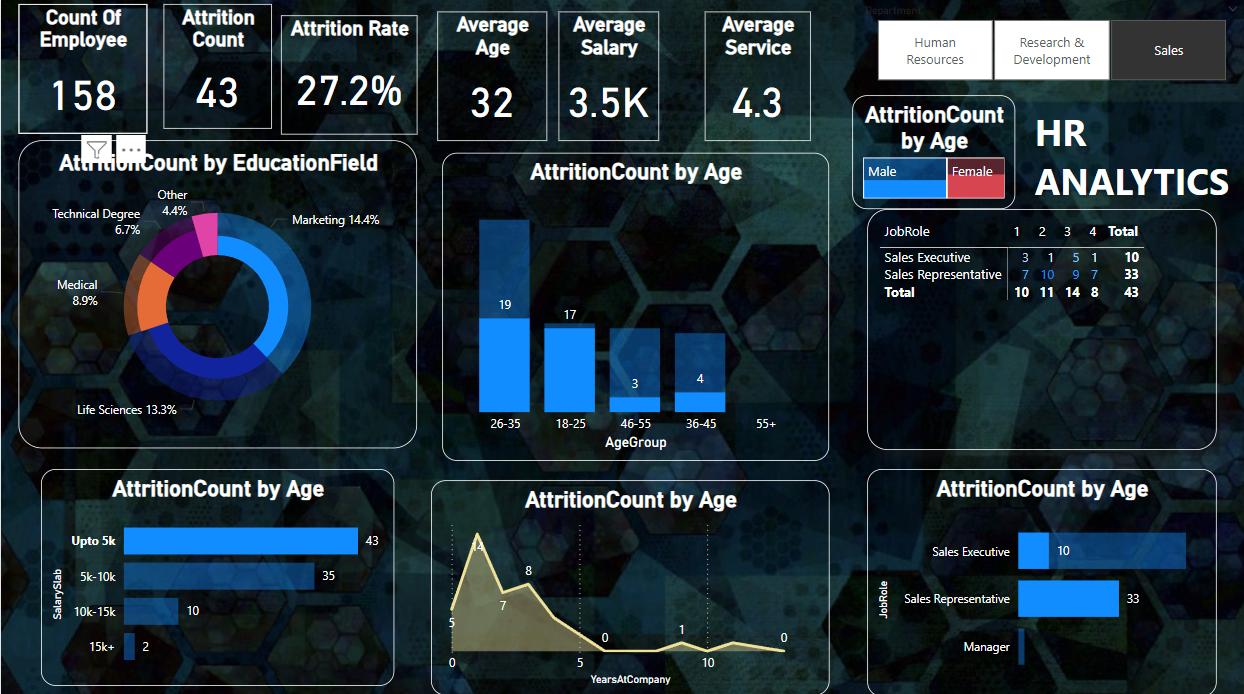

The page's visual inventory and layout, read from the dashboard file:
{"tool":"powerbi","page":{"name":"Page 1","canvas":[1280,720],"ordinal":0},"visuals":[{"type":"card","title":"Count Of Employee","fields":{"Values":["CountNonNull(HR_Analytics.EmpID)"]},"box":[17.8,5.5,131.7,133.1],"z":0},{"type":"card","title":"Attrition  Count","fields":{"Values":["Sum(HR_Analytics.AttritionCount)"]},"box":[166,5.5,111.1,127.6],"z":1000},{"type":"card","title":"Attrition Rate","fields":{"Values":["HR_Analytics.AttritionRate"]},"box":[286.8,16.5,140,122.1],"z":2000},{"type":"card","title":"Average Age","fields":{"Values":["Avg(HR_Analytics.Age)"]},"box":[447.3,12.3,112.5,133.1],"z":3000},{"type":"card","title":"Average Salary","fields":{"Values":["Avg(HR_Analytics.MonthlyIncome)"]},"box":[572.2,12.3,102.9,133.1],"z":4000},{"type":"card","title":"Average Service","fields":{"Values":["Avg(HR_Analytics.YearsAtCompany)"]},"box":[721.8,12.3,108.4,133.1],"z":5000},{"type":"donutChart","title":"AttritionCount by EducationField","fields":{"Category":["HR_Analytics.EducationField"],"Y":["Sum(HR_Analytics.AttritionCount)"]},"box":[17.8,145.5,408.9,315.6],"z":6000},{"type":"columnChart","title":"AttritionCount by Age","fields":{"Category":["HR_Analytics.AgeGroup"],"Y":["Sum(HR_Analytics.AttritionCount)"]},"box":[452.8,157.8,396.6,315.6],"z":7000},{"type":"pivotTable","fields":{"Rows":["HR_Analytics.JobRole"],"Columns":["HR_Analytics.JobSatisfaction"],"Values":["Sum(HR_Analytics.AttritionCount)"]},"box":[887.8,215.4,358.1,247],"z":8000},{"type":"clusteredBarChart","title":"AttritionCount by Age","fields":{"Category":["HR_Analytics.SalarySlab"],"Y":["Sum(HR_Analytics.AttritionCount)"]},"box":[41.2,481.6,362.3,222.3],"z":9000},{"type":"clusteredBarChart","title":"AttritionCount by Age","fields":{"Category":["HR_Analytics.JobRole"],"Y":["Sum(HR_Analytics.AttritionCount)"]},"box":[887.8,481.6,358.1,233.3],"z":10000},{"type":"areaChart","title":"AttritionCount by Age","fields":{"Category":["HR_Analytics.YearsAtCompany"],"Y":["Sum(HR_Analytics.AttritionCount)"]},"box":[440.5,494,408.9,220.9],"z":11000},{"type":"treemap","title":"AttritionCount by Age","fields":{"Group":["HR_Analytics.Gender"],"Values":["Sum(HR_Analytics.AttritionCount)"]},"box":[872.7,98.8,167.4,116.6],"z":12000},{"type":"slicer","fields":{"Values":["HR_Analytics.Department"]},"box":[872.7,0,407.5,90.6],"z":13000},{"type":"textbox","box":[1055.2,107,225,116.6],"z":14000}]}

Visuals, with their boxes in screenshot pixels (x1, y1, x2, y2), scaled from the page's 1280x720 canvas onto the 1244x694 screenshot:
"Count Of Employee" card: {"left": 17, "top": 5, "right": 145, "bottom": 134}
"Attrition  Count" card: {"left": 161, "top": 5, "right": 269, "bottom": 128}
"Attrition Rate" card: {"left": 279, "top": 16, "right": 415, "bottom": 134}
"Average Age" card: {"left": 435, "top": 12, "right": 544, "bottom": 140}
"Average Salary" card: {"left": 556, "top": 12, "right": 656, "bottom": 140}
"Average Service" card: {"left": 701, "top": 12, "right": 807, "bottom": 140}
"AttritionCount by EducationField" donutChart: {"left": 17, "top": 140, "right": 415, "bottom": 444}
"AttritionCount by Age" columnChart: {"left": 440, "top": 152, "right": 826, "bottom": 456}
pivotTable - HR_Analytics.JobRole x HR_Analytics.JobSatisfaction: {"left": 863, "top": 208, "right": 1211, "bottom": 446}
"AttritionCount by Age" clusteredBarChart: {"left": 40, "top": 464, "right": 392, "bottom": 678}
"AttritionCount by Age" clusteredBarChart: {"left": 863, "top": 464, "right": 1211, "bottom": 689}
"AttritionCount by Age" areaChart: {"left": 428, "top": 476, "right": 826, "bottom": 689}
"AttritionCount by Age" treemap: {"left": 848, "top": 95, "right": 1011, "bottom": 208}
slicer - HR_Analytics.Department: {"left": 848, "top": 0, "right": 1243, "bottom": 87}
textbox: {"left": 1026, "top": 103, "right": 1243, "bottom": 216}
